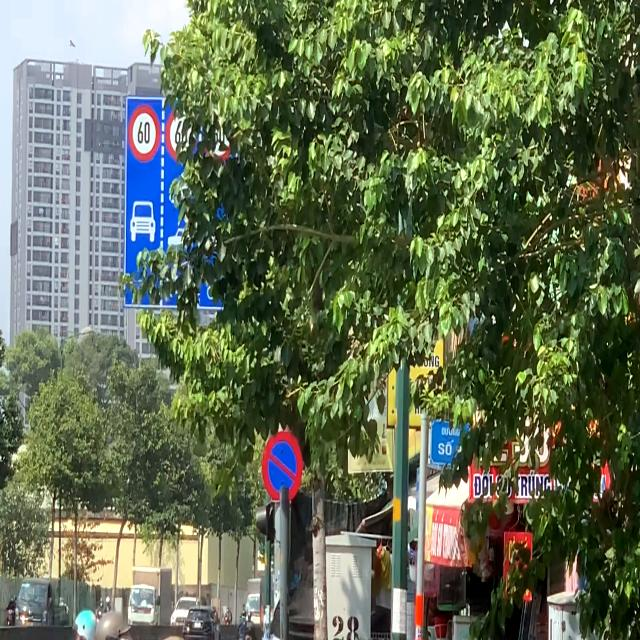P.127: (128, 104, 161, 164)
P.131a: (262, 431, 303, 502)
